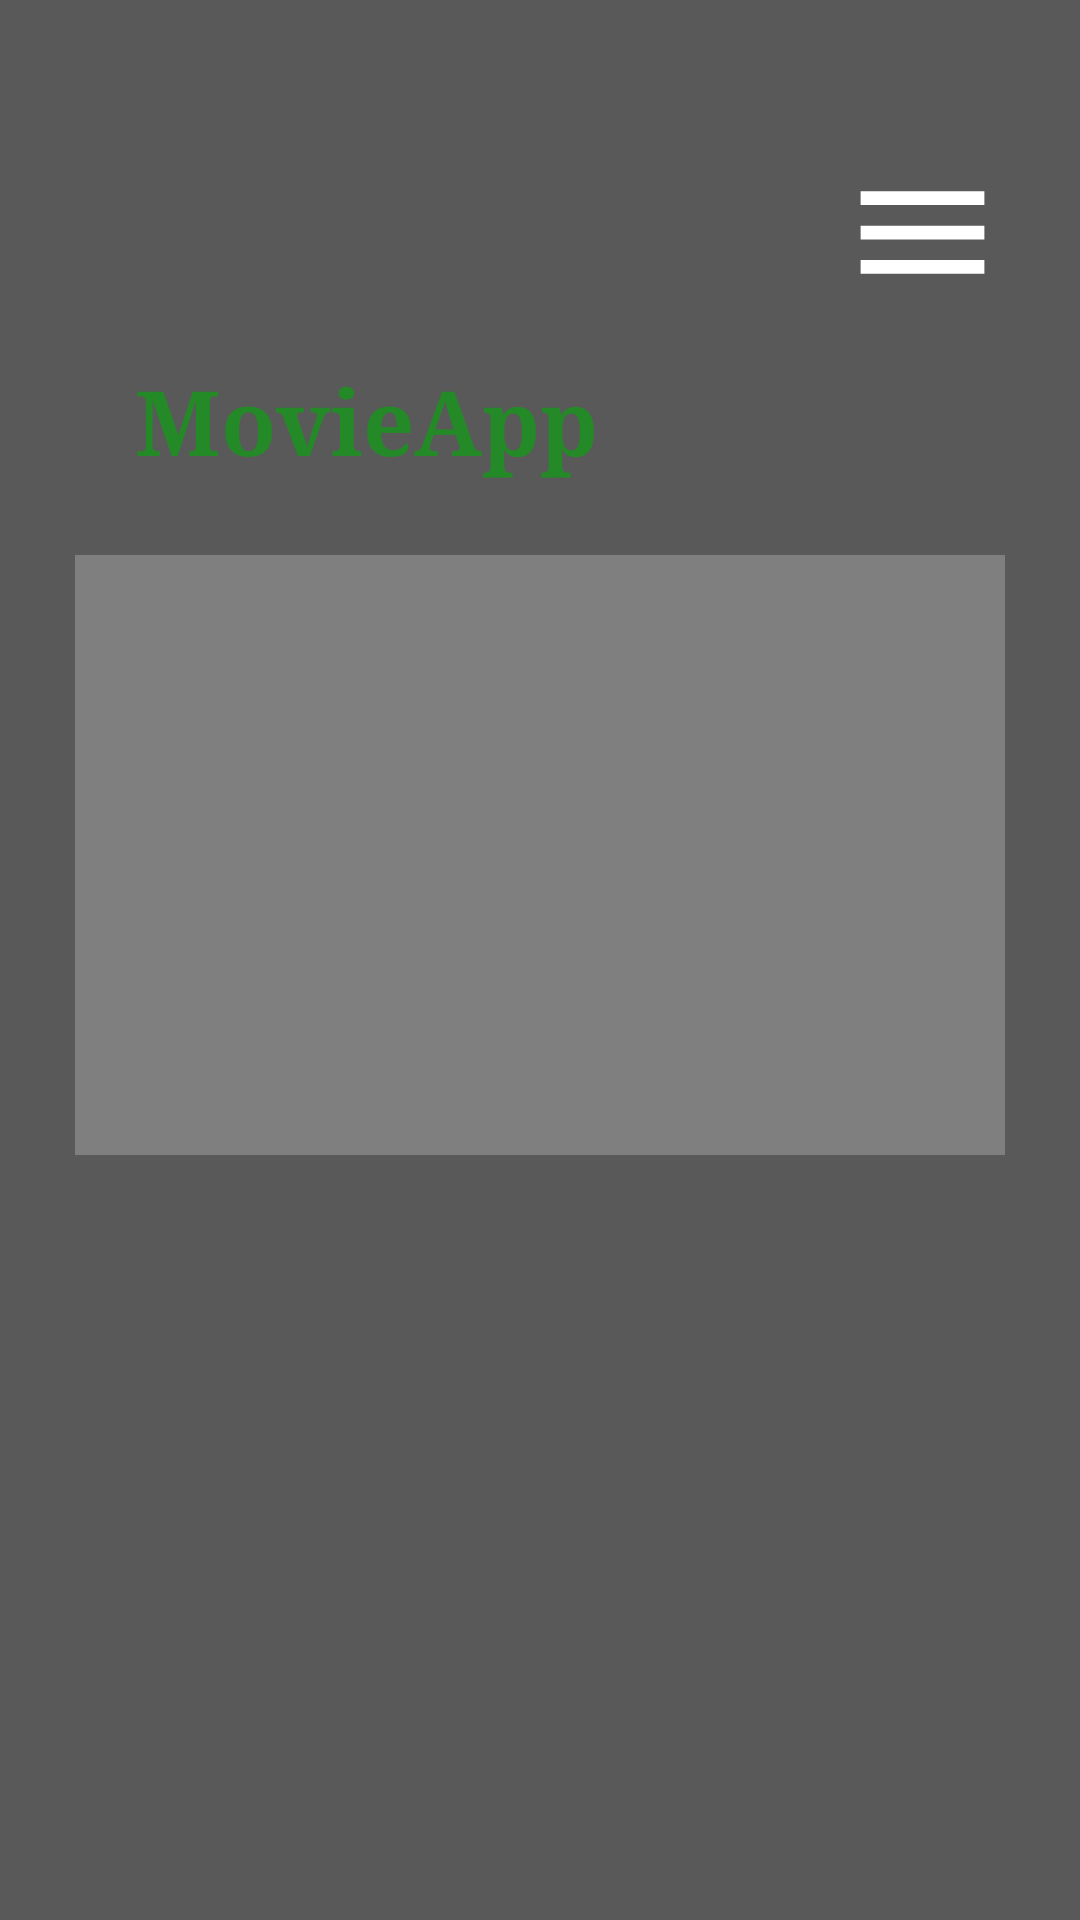

Named icons in this screenshot (1080w x 1920h) and their bounding boxes, (x1, y1, x2, y2):
open menu: (860, 191, 985, 274)
